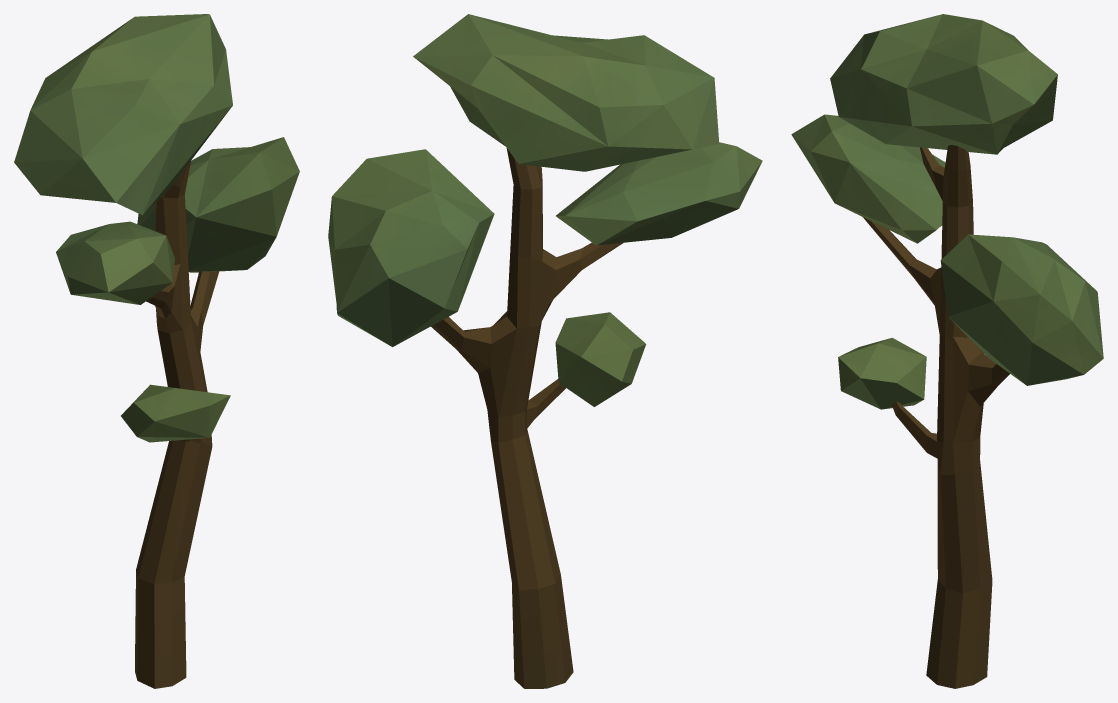
Rendered from tree1V1.fbx.
The picture shows the model from 3 angles, left to right: view 1: azimuth 30°, elevation 25°; view 2: azimuth 150°, elevation 25°; view 3: azimuth 270°, elevation 25°; orthographic projection. The views are drawn at different scales.
Visible parts, largest first — view 1: Tree1; view 2: Tree1; view 3: Tree1.
Boxes of the visible parts, x1,y1,x2,y2 form: Tree1: [14, 14, 299, 688]; Tree1: [328, 14, 762, 688]; Tree1: [791, 14, 1103, 688].
Bounding box in the file's own units: 196 × 379 × 168.
